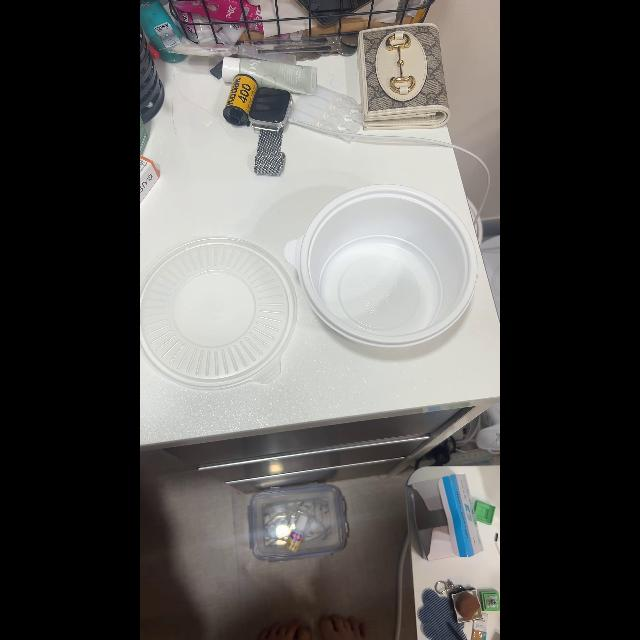clean: (308, 178, 482, 356), (142, 233, 298, 394)
